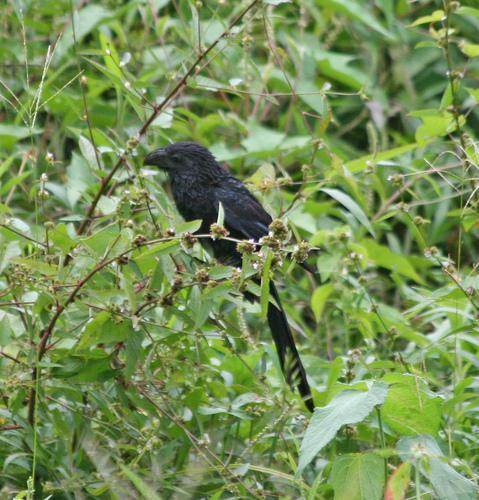004.Groove_billed_Ani: (141, 141, 314, 410)
